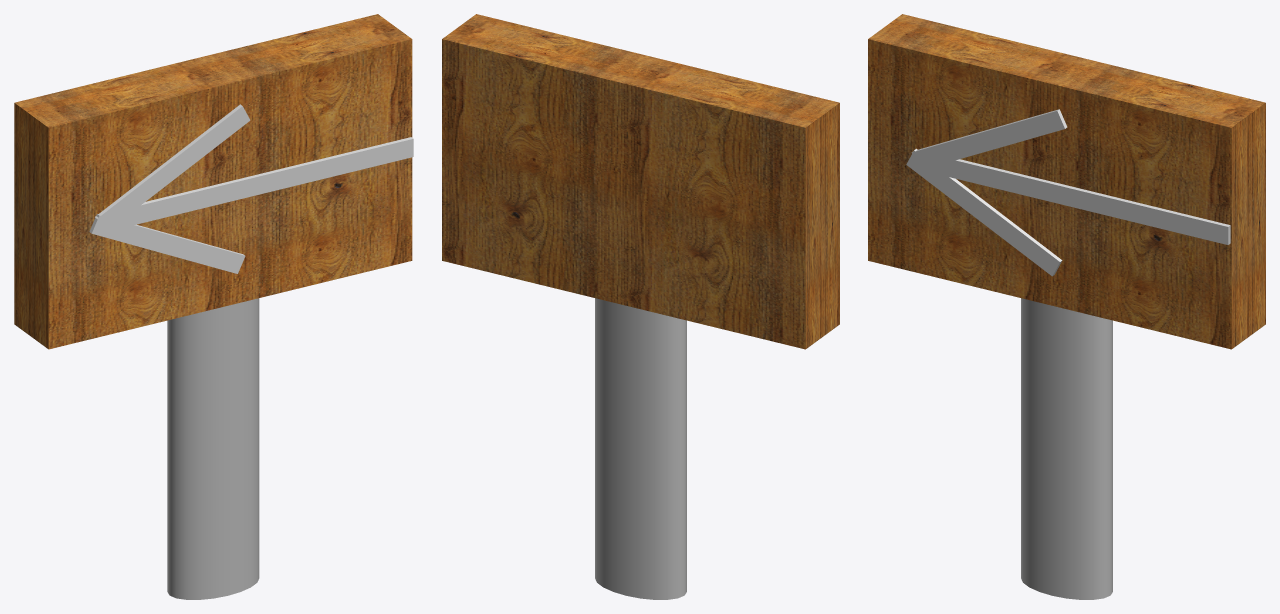
Rendered from SignPointing.fbx.
3 views of the same model, side by side, from view 1: azimuth 30°, elevation 25°; view 2: azimuth 150°, elevation 25°; view 3: azimuth 330°, elevation 25° (orthographic).
Visible parts, largest first — view 1: pCube1, pCylinder1, pCube2, pCube3, pCube4; view 2: pCube1, pCylinder1; view 3: pCube1, pCylinder1, pCube2, pCube4, pCube3.
Part boxes in pixels (x1,y1,x2,y2): pCube1: (14,14,412,349); pCylinder1: (167,298,259,599); pCube2: (108,137,413,231); pCube3: (95,104,250,232); pCube4: (89,214,245,273); pCube1: (442,14,839,349); pCylinder1: (595,298,686,599); pCube1: (868,14,1265,349); pCylinder1: (1021,298,1112,599); pCube2: (922,152,1230,244); pCube4: (906,148,1062,276); pCube3: (911,109,1067,170).
Size of the model in its own units: 1.18 by 1.6 by 0.2072.
